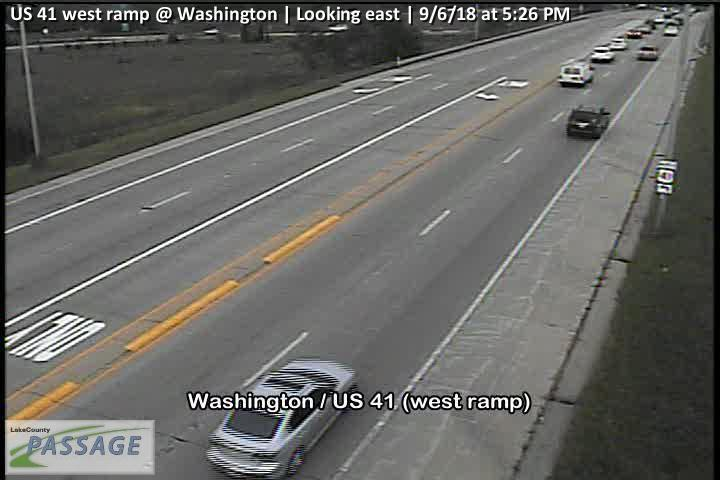SUV: (565, 104, 612, 138), (592, 46, 616, 61)
Sedan: (204, 355, 361, 480), (636, 44, 659, 60), (609, 37, 628, 50), (626, 27, 646, 38), (664, 25, 679, 36)
Truck: (558, 60, 596, 87)
